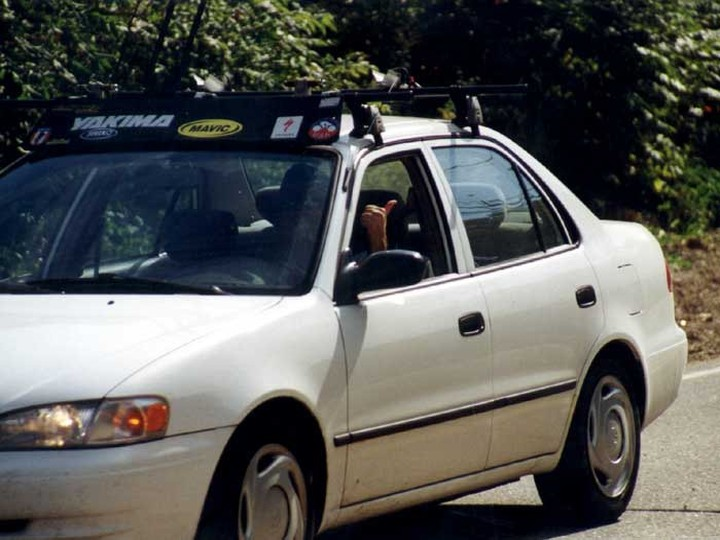car: (1, 89, 668, 514)
